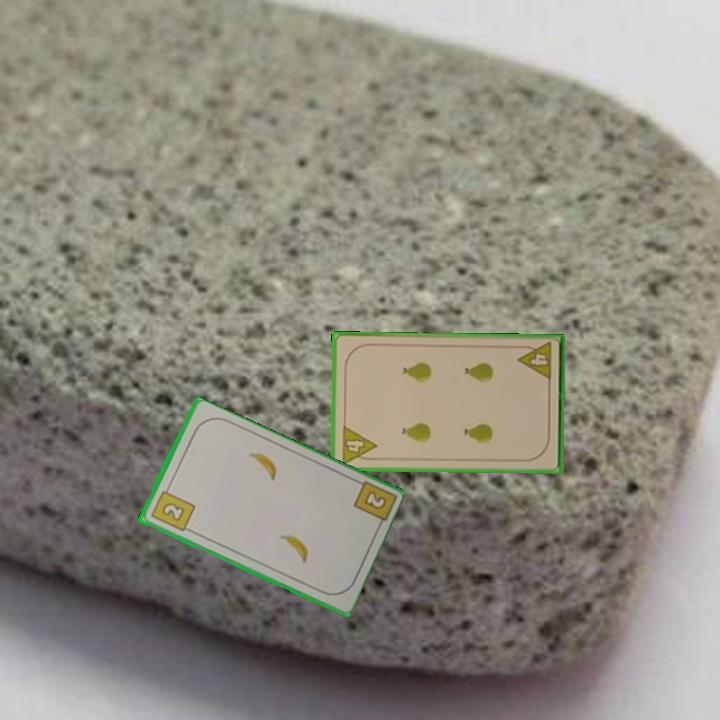2b: (147, 482, 197, 534), (360, 487, 389, 513)
4p: (338, 422, 379, 466), (515, 339, 554, 383)
